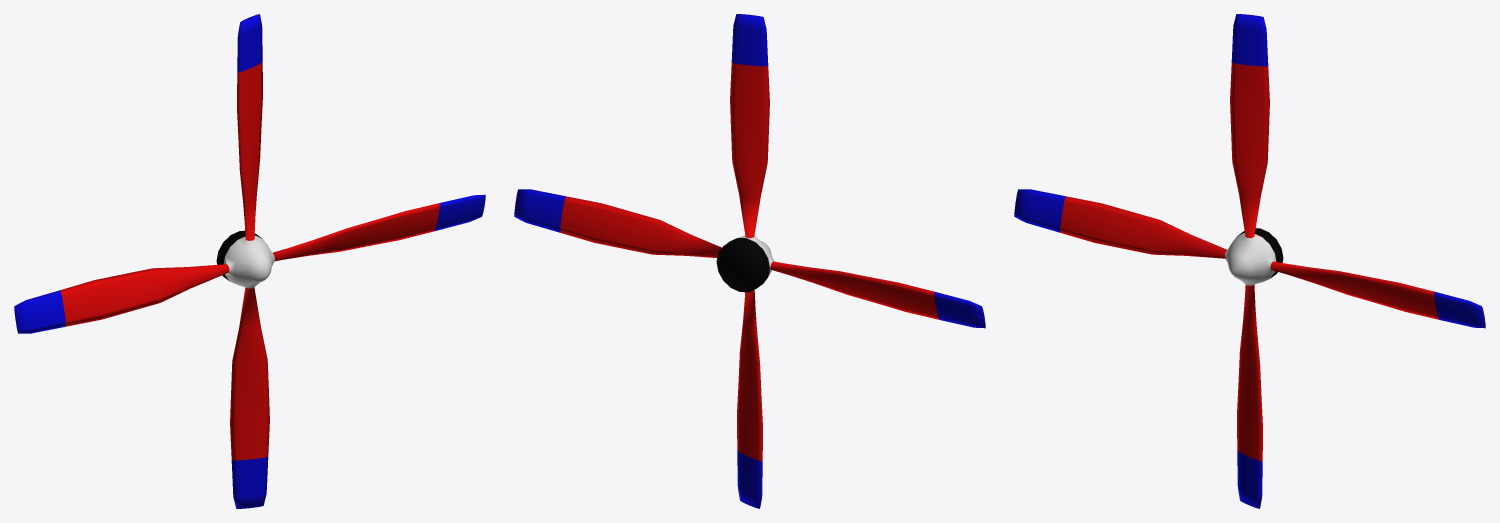
Rendered from SLMechatronics.glb.
3 views of the same model, side by side, from view 1: azimuth 30°, elevation 25°; view 2: azimuth 150°, elevation 25°; view 3: azimuth 330°, elevation 25° (orthographic).
Parts seen in each view (by area): view 1: Propeller; view 2: Propeller; view 3: Propeller.
Boxes of the visible parts, x1=… form: Propeller: x1=14, y1=14, x2=485, y2=508; Propeller: x1=514, y1=14, x2=985, y2=508; Propeller: x1=1014, y1=14, x2=1485, y2=508.
Size of the model in its own units: 4 by 4 by 0.4.
